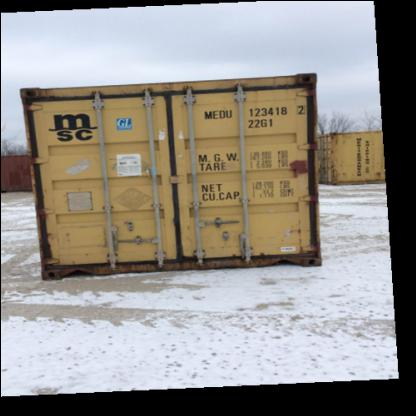Damage: (180, 247, 320, 272), (234, 68, 319, 96), (40, 256, 121, 283), (15, 86, 70, 110)
